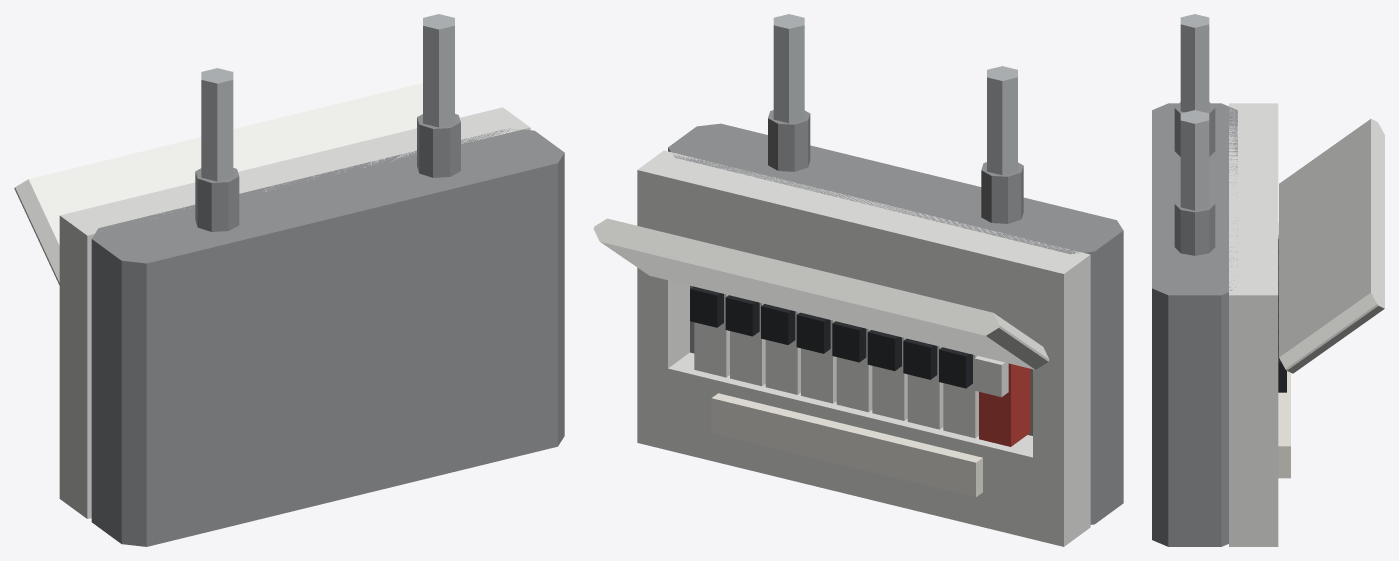
The model's file is SM_LPI_Util_ConsumerUnit_01.fbx.
The picture shows the model from 3 angles, left to right: view 1: azimuth 30°, elevation 25°; view 2: azimuth 150°, elevation 25°; view 3: azimuth 270°, elevation 25°; orthographic projection. The views are drawn at different scales.
Visible parts, largest first — view 1: SM_LPI_Util_ConsumerUnit_01; view 2: SM_LPI_Util_ConsumerUnit_01; view 3: SM_LPI_Util_ConsumerUnit_01.
Part boxes in pixels (left/top/right/bottom): SM_LPI_Util_ConsumerUnit_01: left=14, top=14, right=564, bottom=546; SM_LPI_Util_ConsumerUnit_01: left=593, top=14, right=1123, bottom=546; SM_LPI_Util_ConsumerUnit_01: left=1152, top=14, right=1384, bottom=546.
Bounding box in the file's own units: 0.36 × 0.334 × 0.1845.
